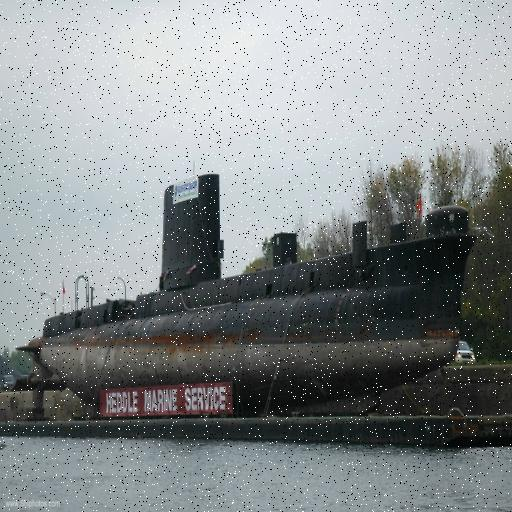submarine: (17, 173, 477, 403)
